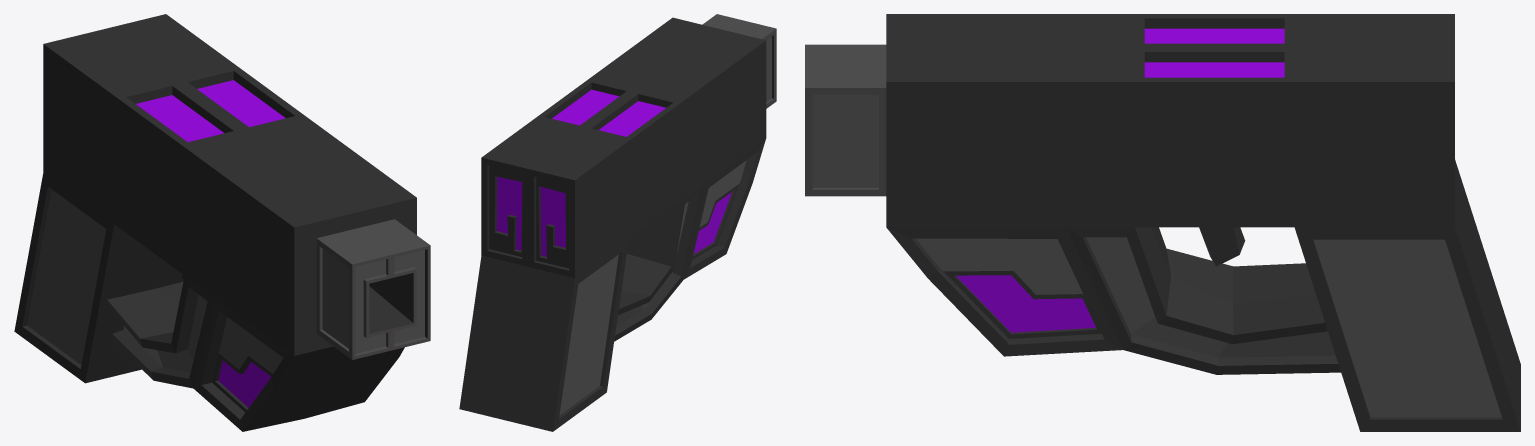
The model's file is Pistola.fbx.
3 renders of one model, left to right at view 1: azimuth 30°, elevation 25°; view 2: azimuth 150°, elevation 25°; view 3: azimuth 270°, elevation 25°, orthographic. The views are drawn at different scales.
Parts seen in each view (by area): view 1: Cube; view 2: Cube; view 3: Cube.
Part boxes in pixels (x1,y1,x2,y2): Cube: [14, 14, 430, 431]; Cube: [459, 14, 776, 431]; Cube: [805, 14, 1520, 431].
Size of the model in its own units: 14.19 by 33.68 by 62.4.
